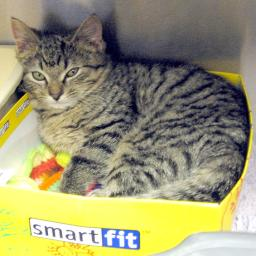catnose: (50, 92, 64, 102)
